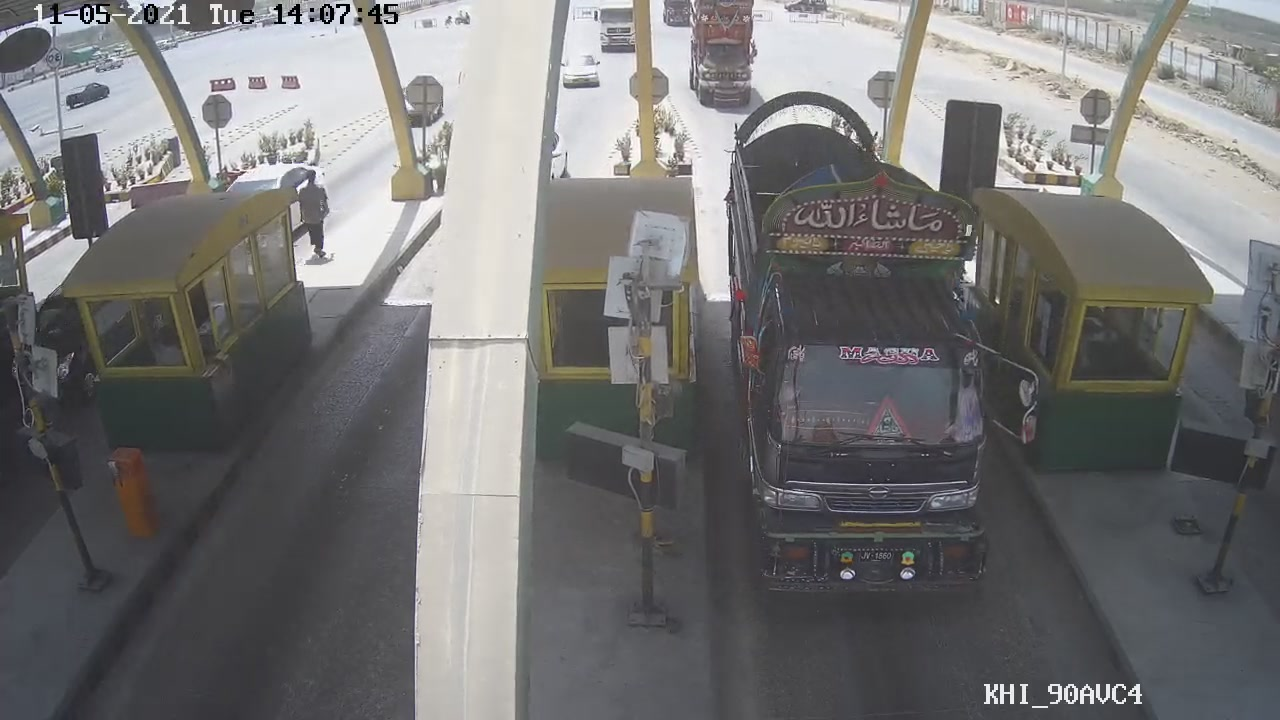F5: (720, 98, 988, 603)
